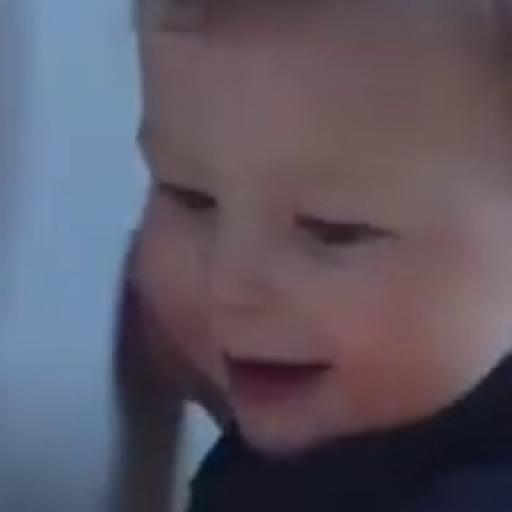Autism: (129, 1, 512, 496)
